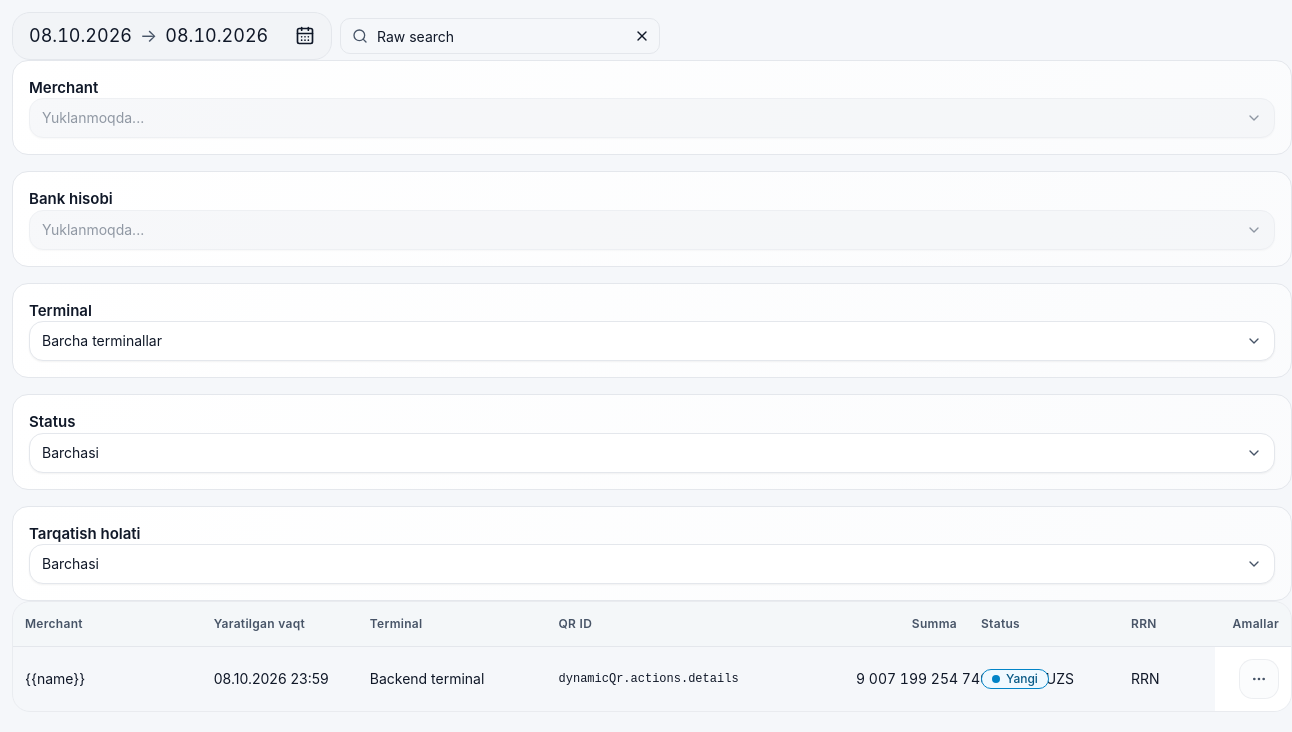
Test: Dynamic QR uz › localizes real table, status, filter and open action-menu labels with unchanged technical values
Click the 1st dropdown labelled "Barchasi". click: (70, 452)
box: top-left (29, 433), bottom-right (1275, 473)
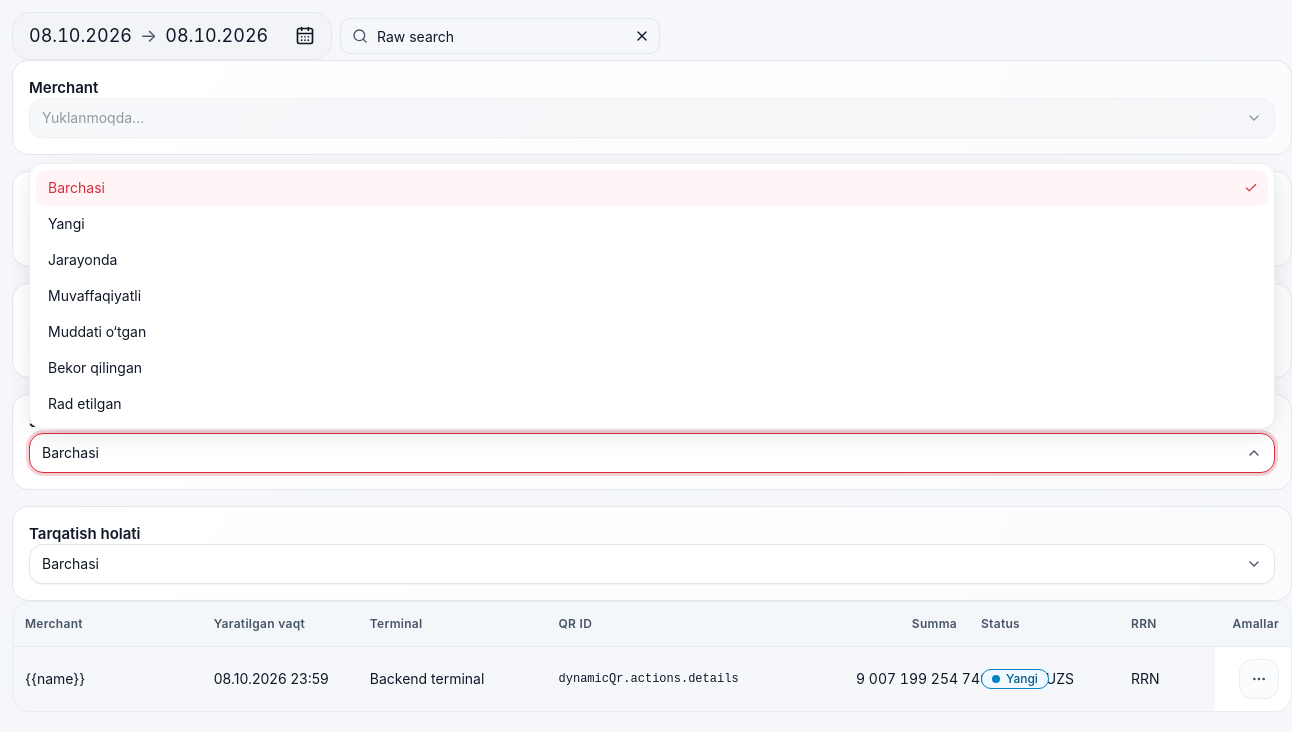
Click the option "Barchasi". click: (76, 188)
box: top-left (36, 170), bottom-right (1268, 206)
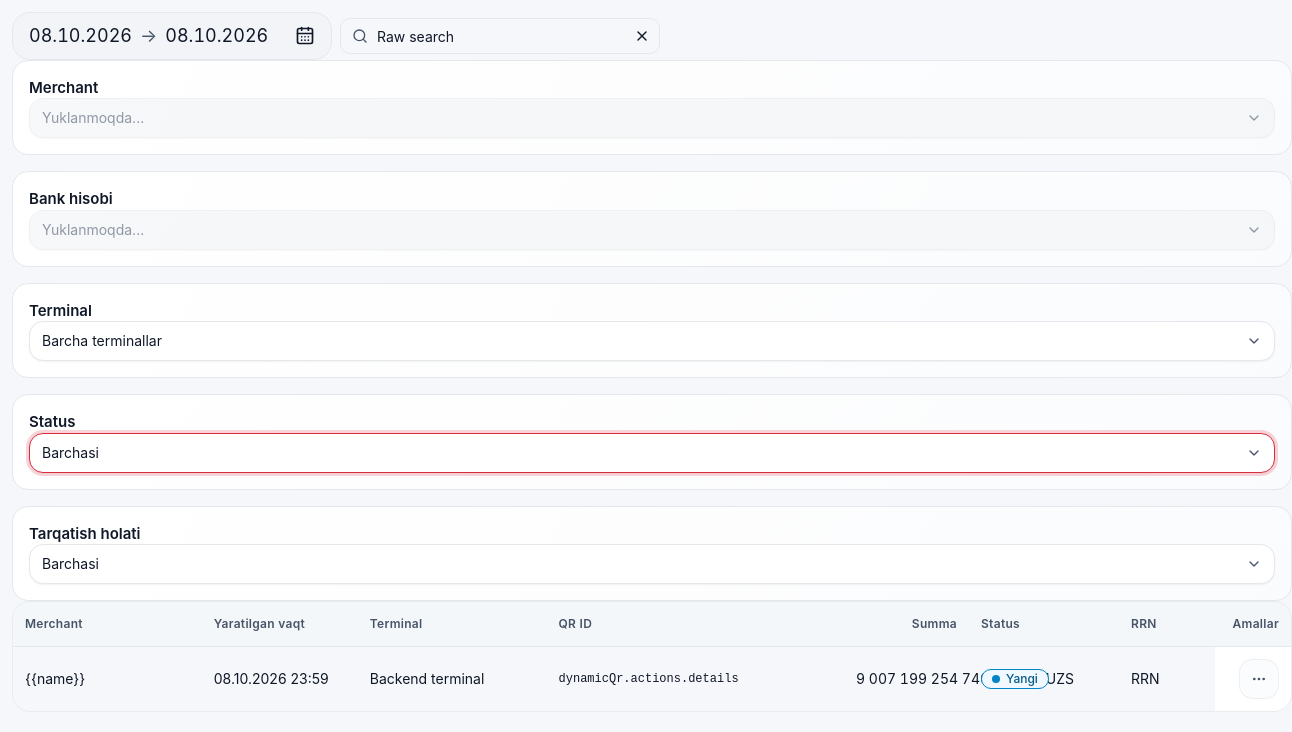
Press Enter in the button named "Amallarni ochish", box top-left (1239, 659), bottom-right (1279, 699)
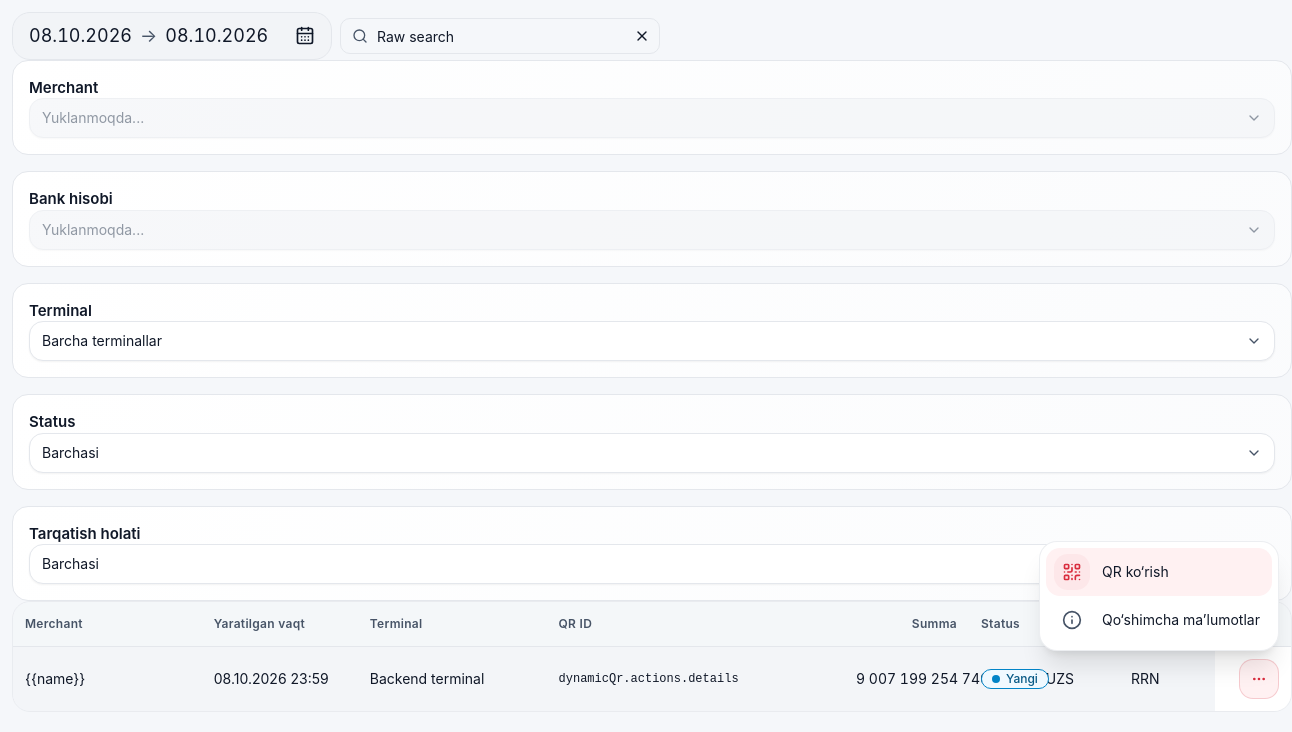
Check: the field named "Terminal nomi bo‘yicha qidirish" holds "Raw search", box top-left (340, 18), bottom-right (660, 54)
Check: the text "Qo‘shimcha ma’lumotlar" is shown, box top-left (1102, 610), bottom-right (1260, 630)
